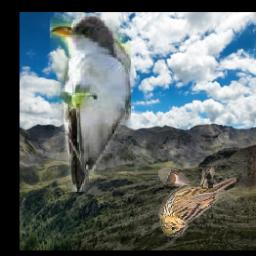Cuckoo: (51, 13, 132, 192)
Sparrow: (158, 168, 236, 236)
